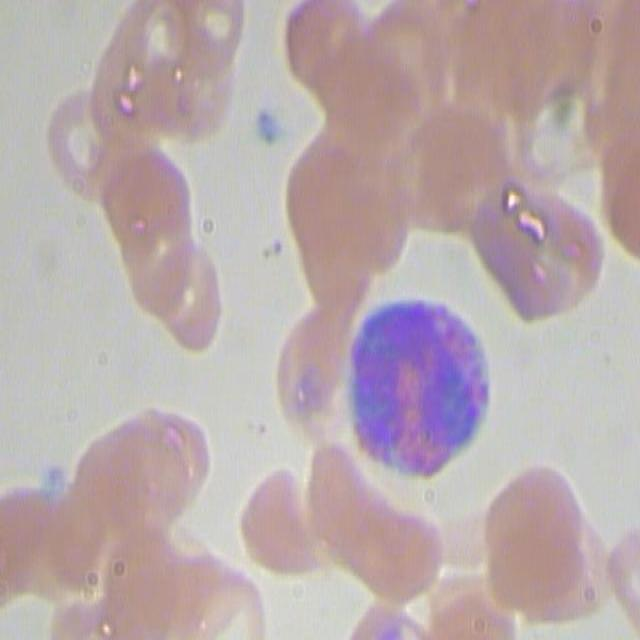RBC: (54, 402, 208, 640), (104, 143, 217, 359), (84, 2, 228, 158), (479, 462, 612, 630), (292, 450, 437, 598), (473, 173, 606, 326), (291, 129, 406, 304), (292, 0, 418, 141), (497, 65, 612, 209), (274, 309, 356, 436), (170, 558, 272, 640), (43, 95, 117, 198), (596, 107, 640, 267), (165, 0, 248, 65)
WBC: (336, 281, 495, 506)
platelets: (28, 452, 69, 518), (254, 101, 292, 149)
